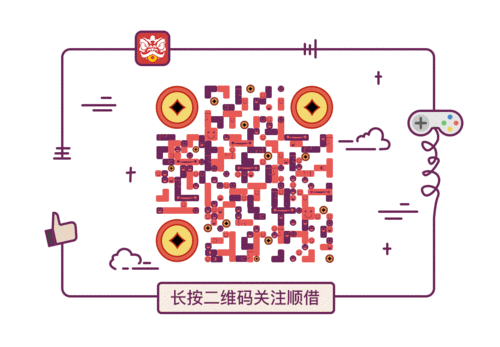QRCode: (151, 79, 338, 271)
